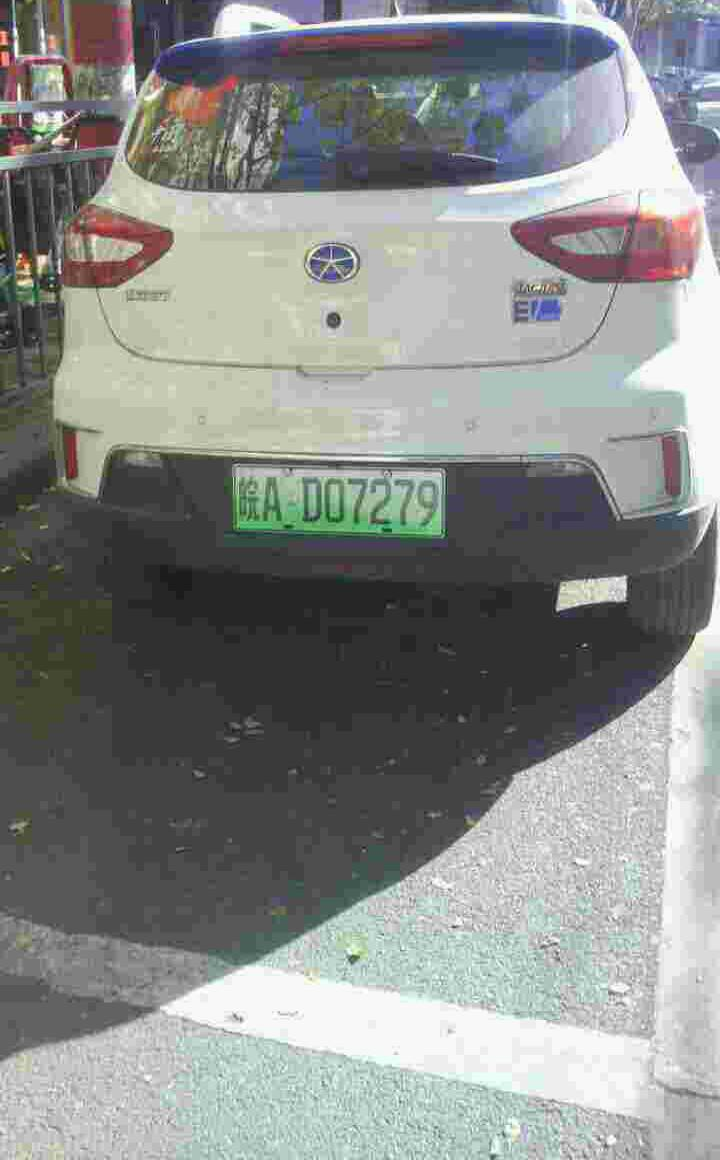car_id: (235, 465, 442, 537)
